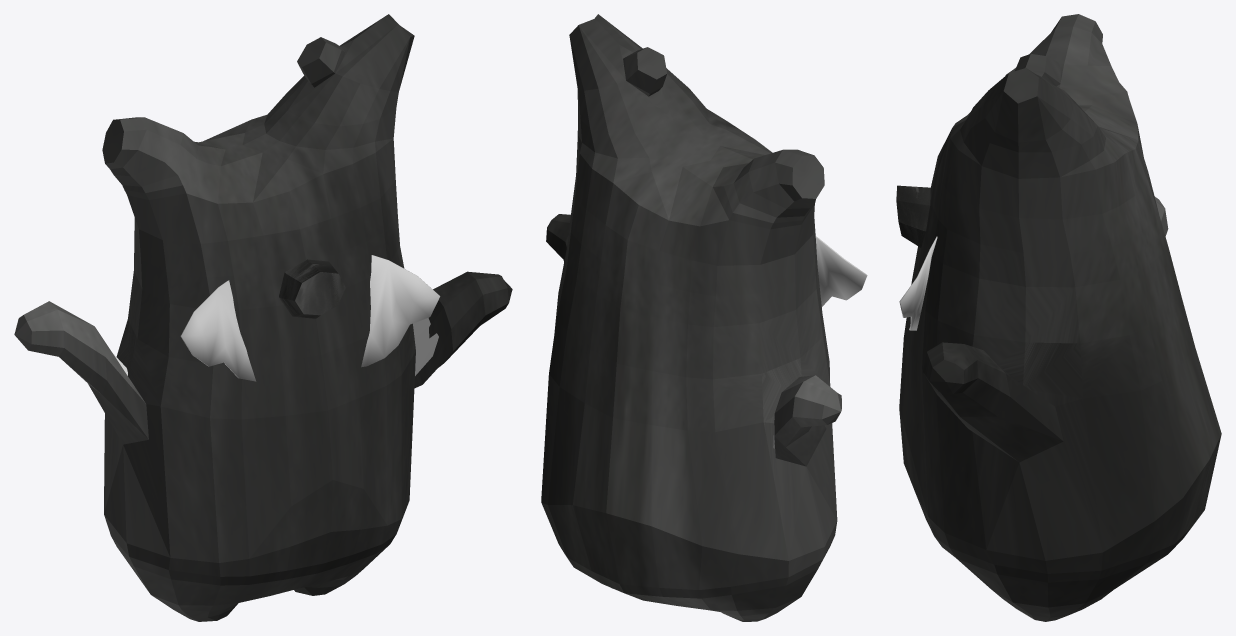
The model's file is frame_0096.obj.
3 views of the same model, side by side, from view 1: azimuth 30°, elevation 25°; view 2: azimuth 150°, elevation 25°; view 3: azimuth 270°, elevation 25° (orthographic). The views are drawn at different scales.
Parts seen in each view (by area): view 1: korok, leaf, nose; view 2: korok, leaf; view 3: korok, nose, leaf.
Boxes of the visible parts, <box> form: korok: <box>14,14,512,621</box>; leaf: <box>180,255,440,381</box>; nose: <box>279,259,345,318</box>; korok: <box>541,14,841,621</box>; leaf: <box>815,236,867,306</box>; korok: <box>899,14,1221,621</box>; nose: <box>896,185,930,247</box>; leaf: <box>899,236,937,330</box>.
Bounding box in the file's own units: 1.7 × 2.32 × 1.18.
